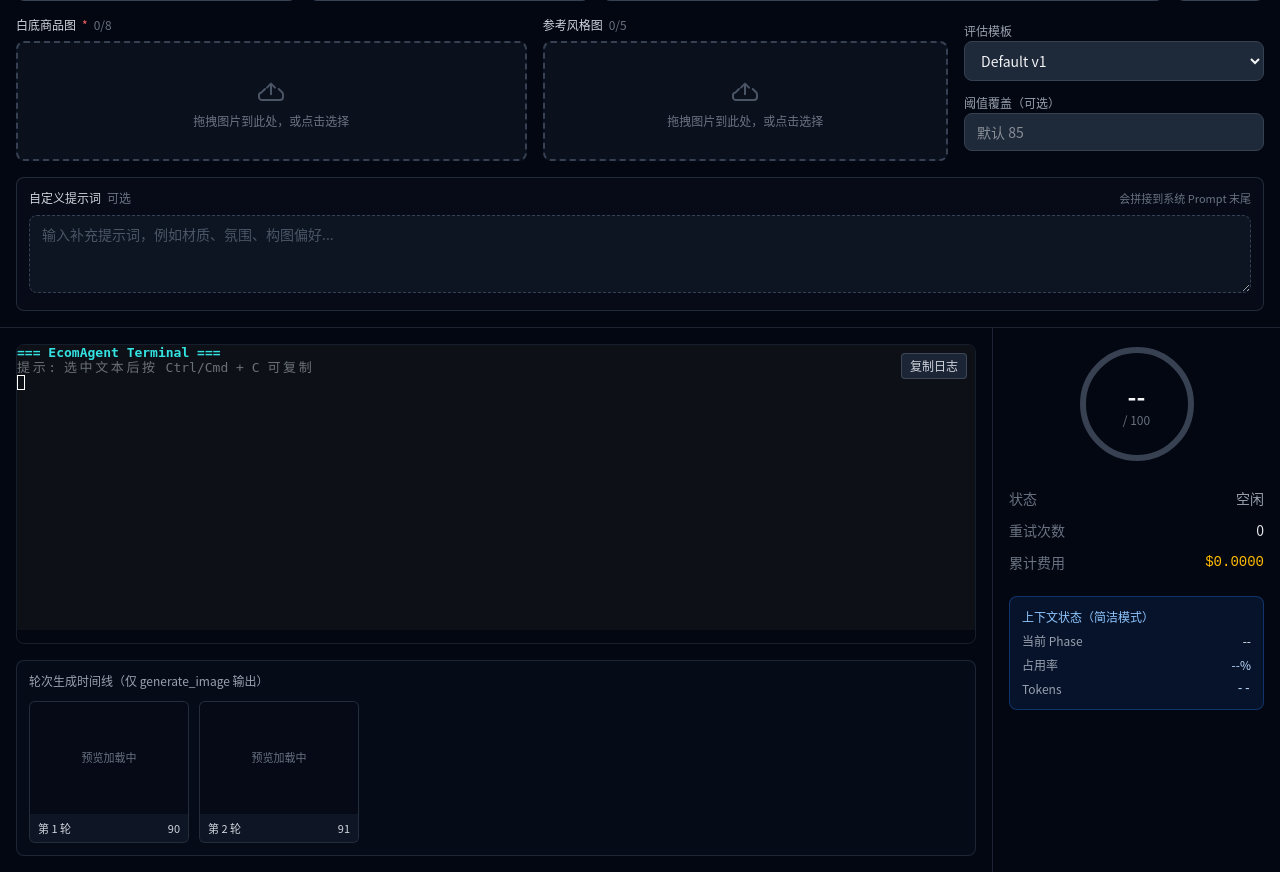
Test case: TaskRun round preview timeline › renders compact clickable thumbnails and opens preview dialog
(page scrolled)
Check: the element with test id "round-preview-timeline" is shown, box [29, 700, 359, 843]
What coordinates should you click on to do the following:
click the button with aria-label "Open round 1 preview"
I would click on:
 (109, 772)
Its box is [29, 700, 189, 843].
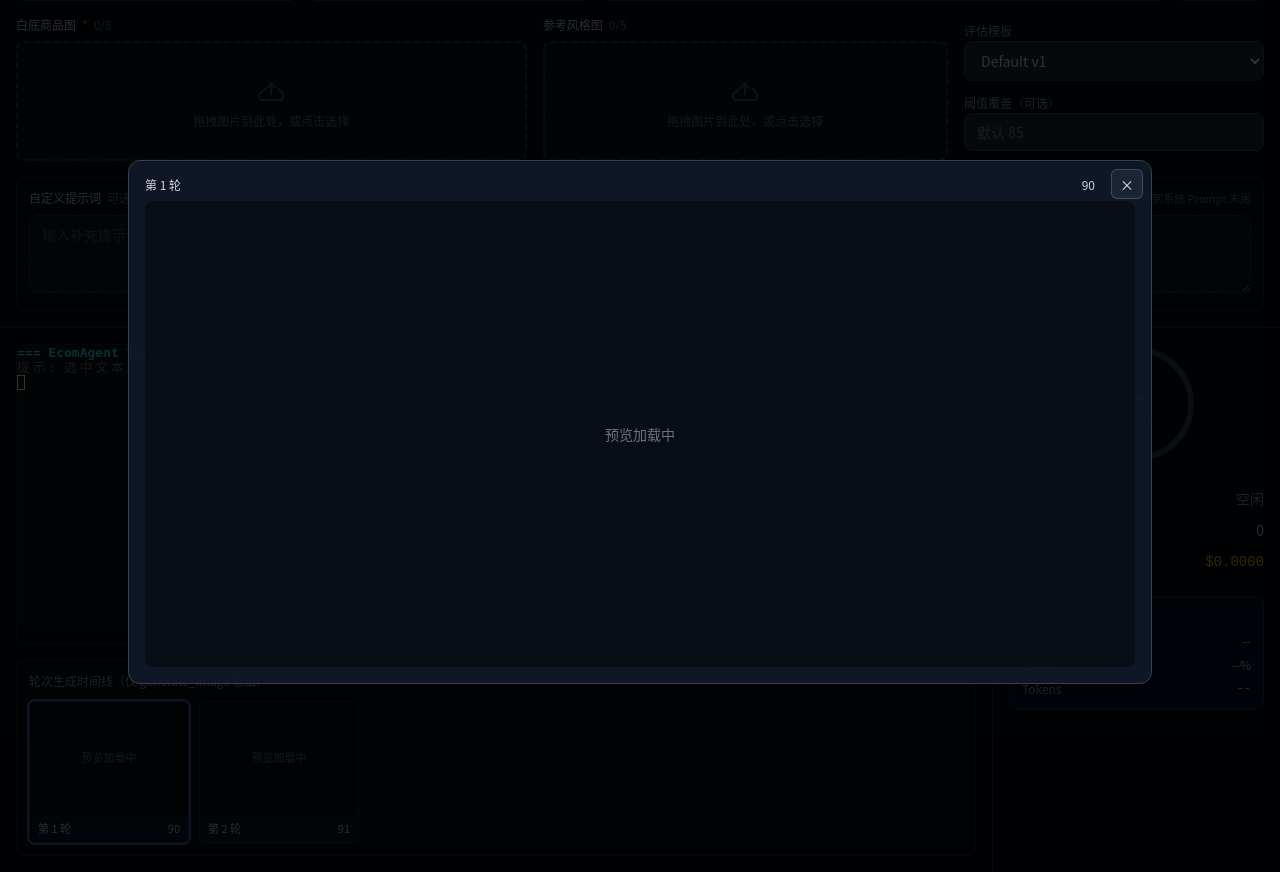
Check: the dialog named "Round 1 image preview" is shown, box [128, 160, 1152, 684]
